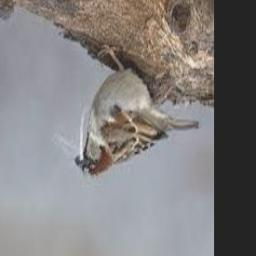Sparrow: (74, 45, 200, 181)
